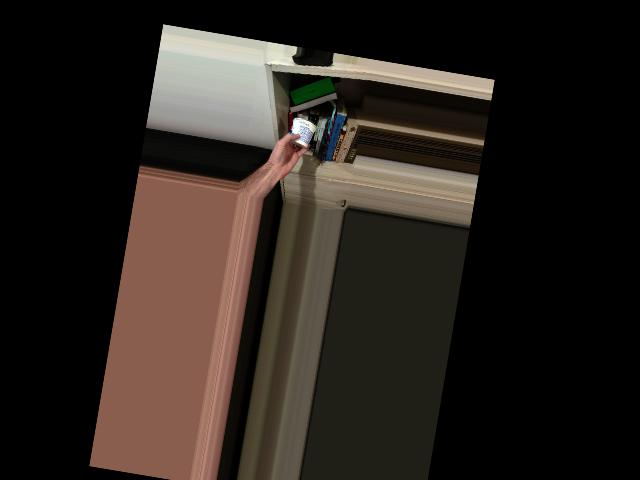cotage: (283, 114, 319, 156)
